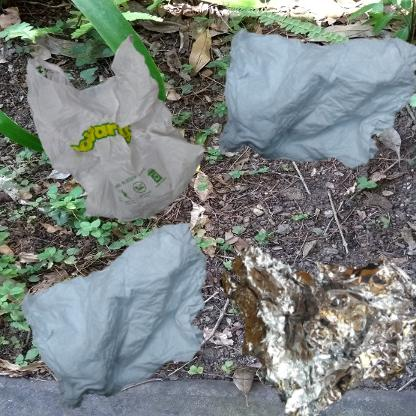aluminio: (213, 213, 416, 416)
bolsa: (10, 10, 244, 272)
papel: (10, 213, 272, 416), (213, 10, 416, 190)
